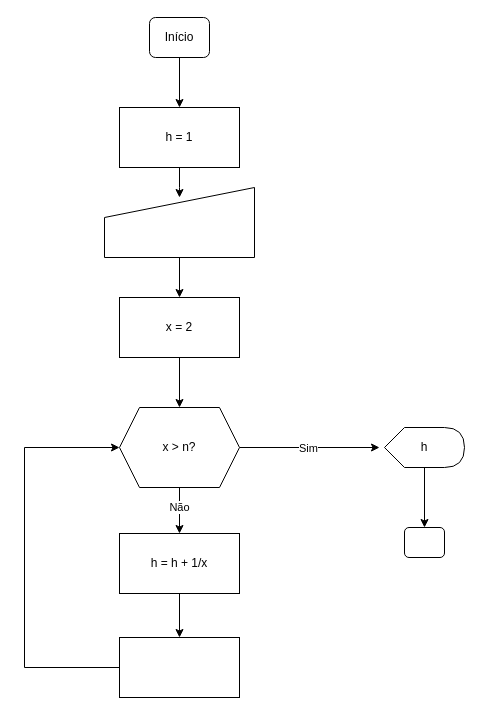
Image size: 482x715. Some labels were removed from this diagram. Here are the shapes that lost their labels. From the top down, the centre of each, then its label:
point 179,222: Ler n
point 424,542: Fim
point 179,667: x = x + 1
